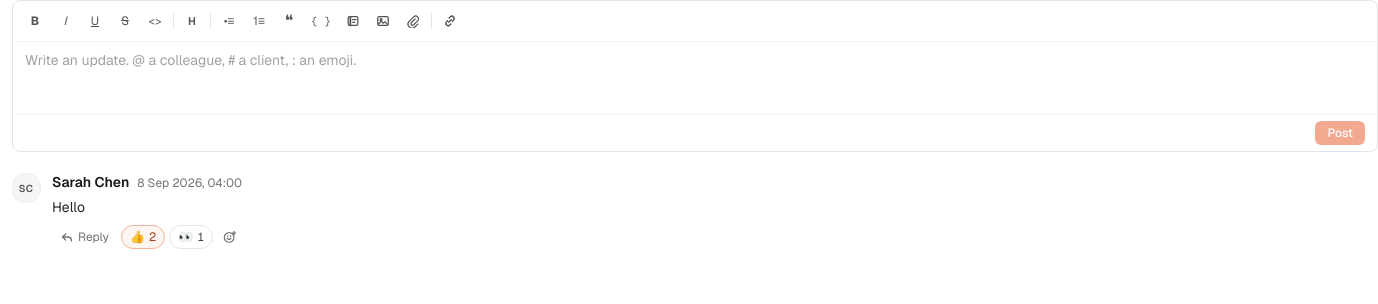
reactions on a post › a reaction action that THROWS is put back too
Click the button named "Thumbs up: 2": [143, 237] box [121,225,165,249]
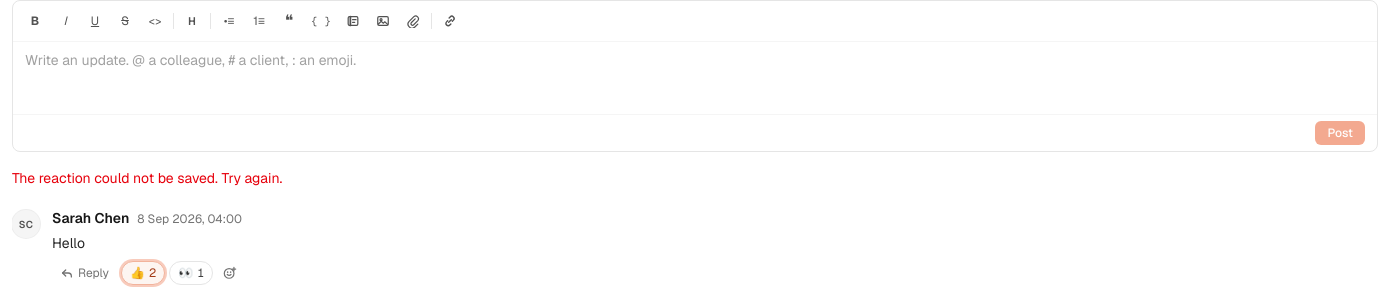
Expected: the message shows "could not be saved", [12,169,282,187]
